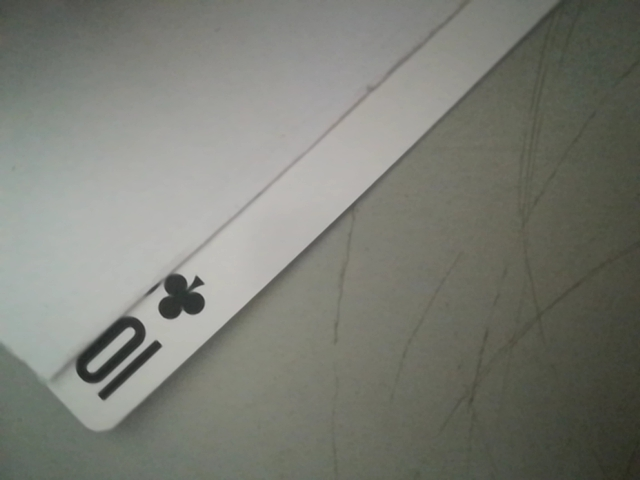mh 10: (56, 265, 212, 421)
